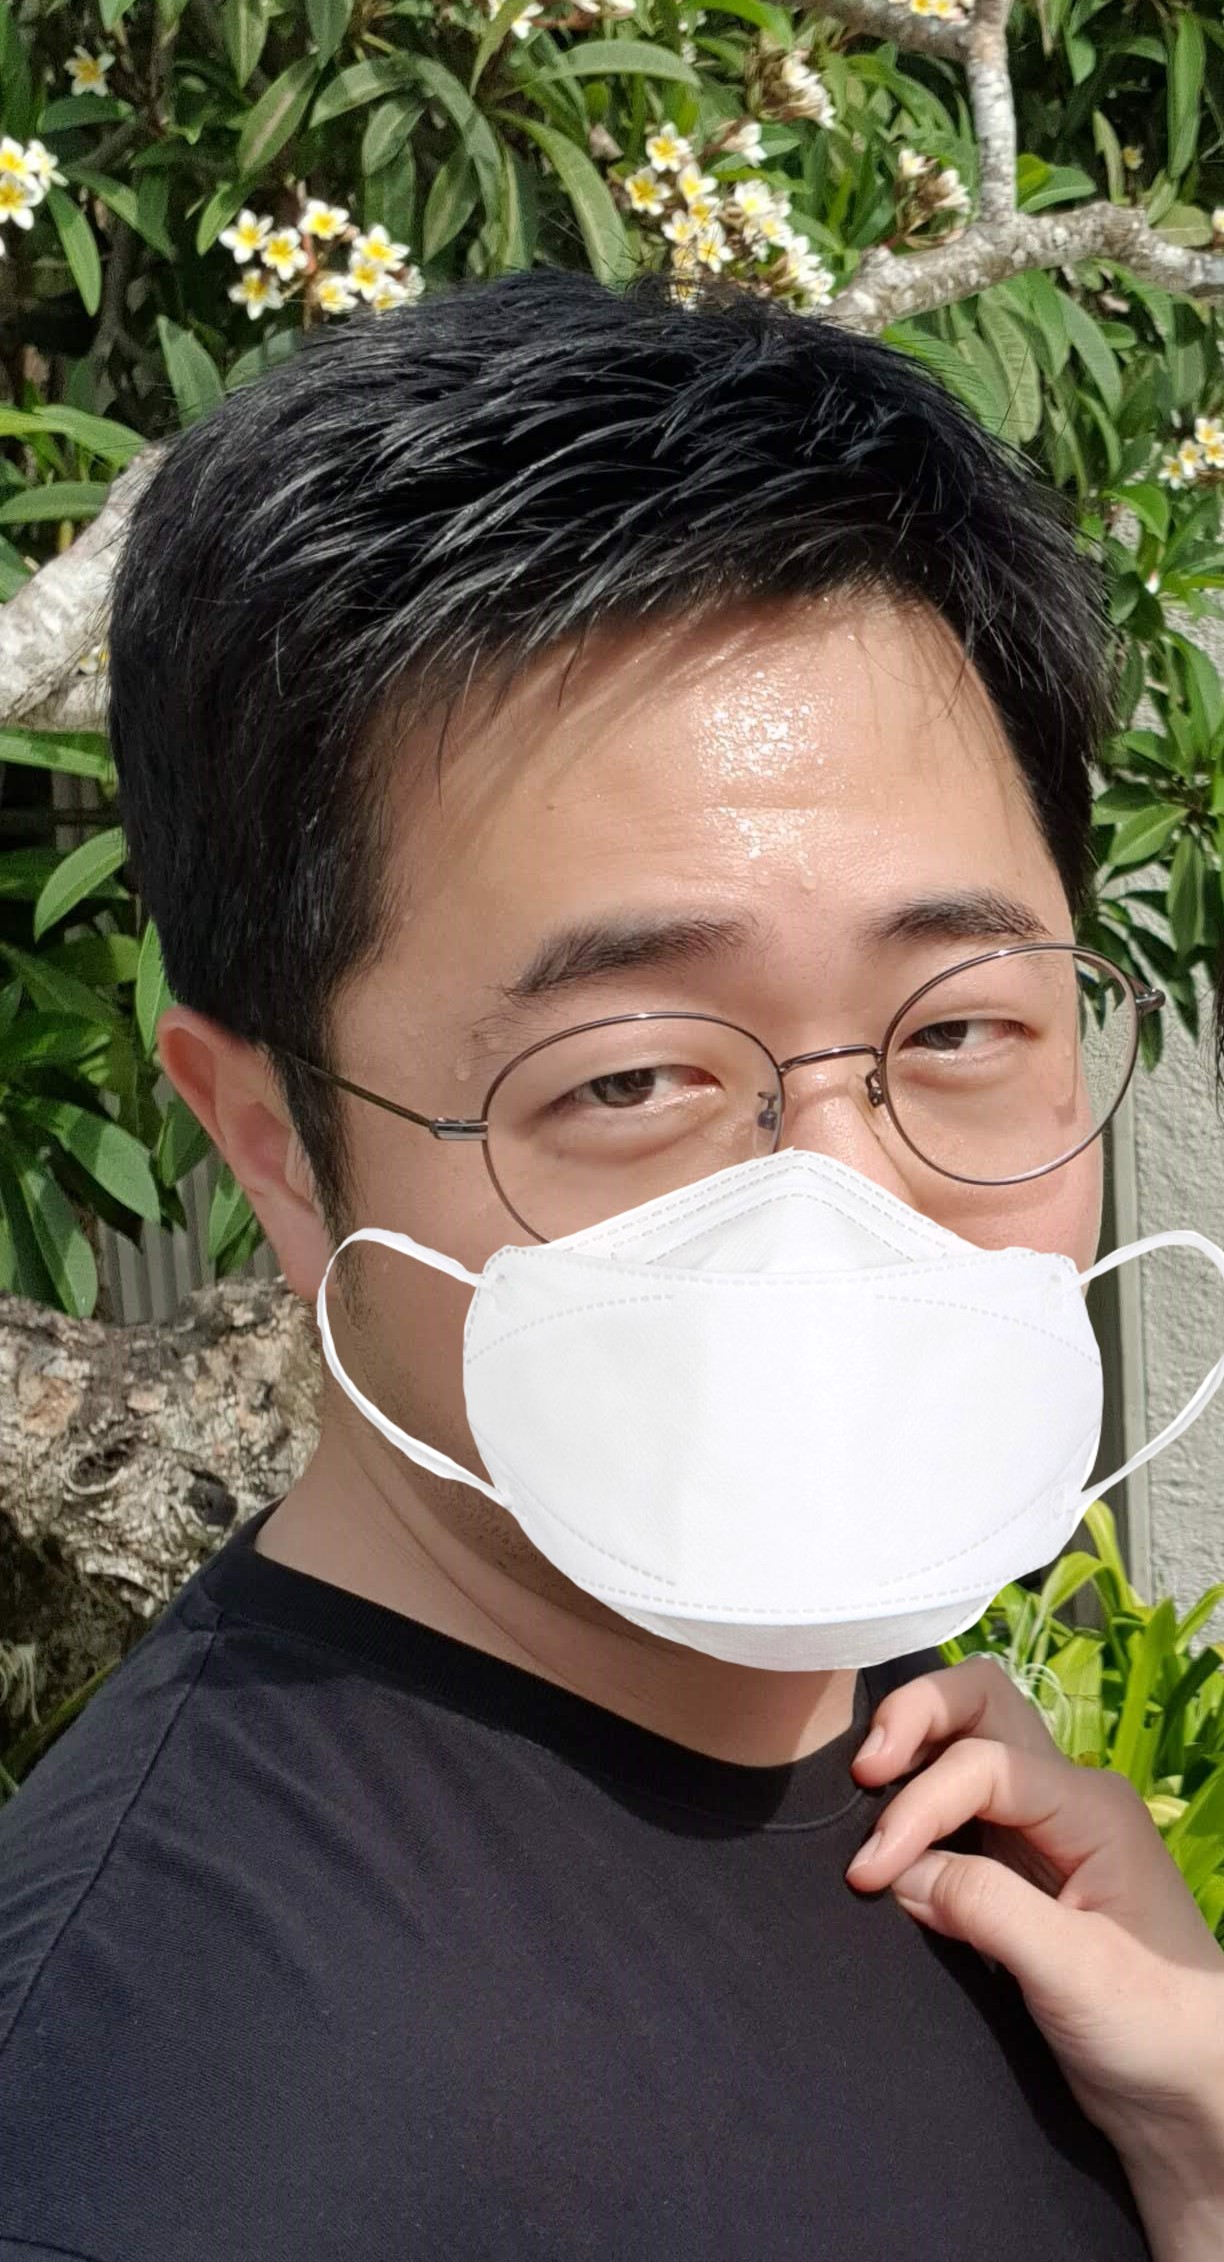mask: (339, 657, 1109, 1670)
